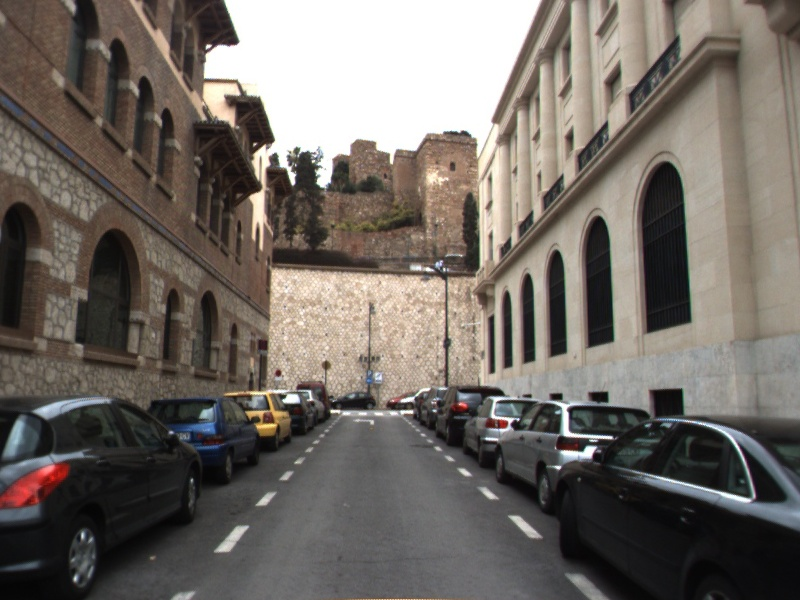LEFT: (351, 416, 376, 427)
